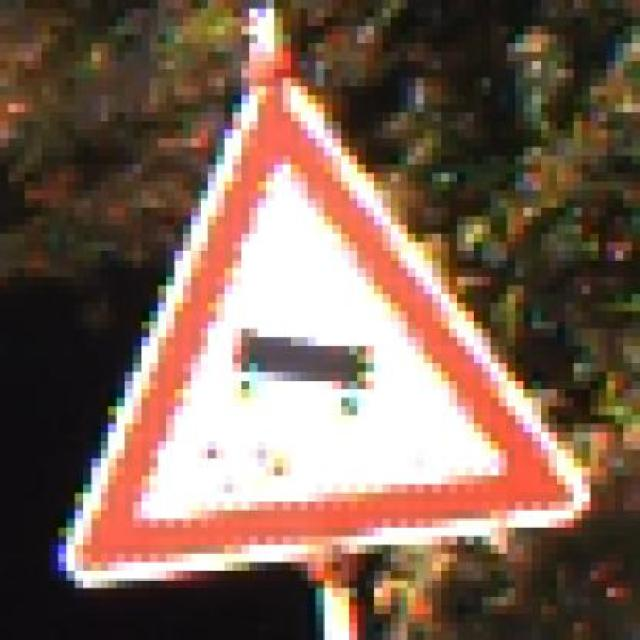Slippery Road Ahead: (41, 69, 598, 588)
